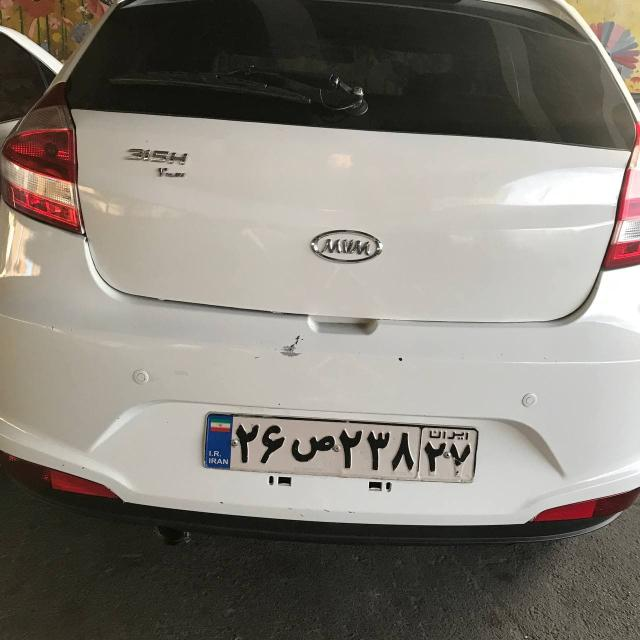Plates: (205, 413, 477, 484)
